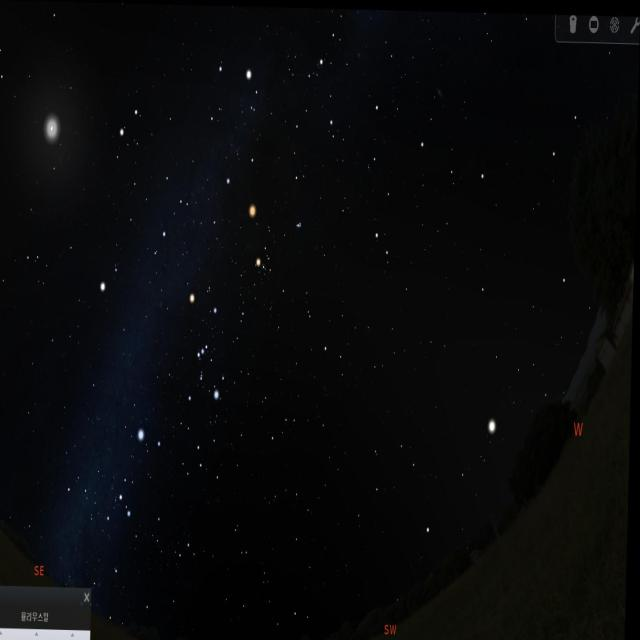canis_major: (112, 419, 169, 524)
canis_minor: (100, 254, 123, 299)
gemini: (114, 83, 200, 250)
moon: (37, 105, 70, 151)
orion: (176, 283, 229, 417)
pleiades: (287, 212, 313, 237)
taurus: (246, 188, 306, 296)
